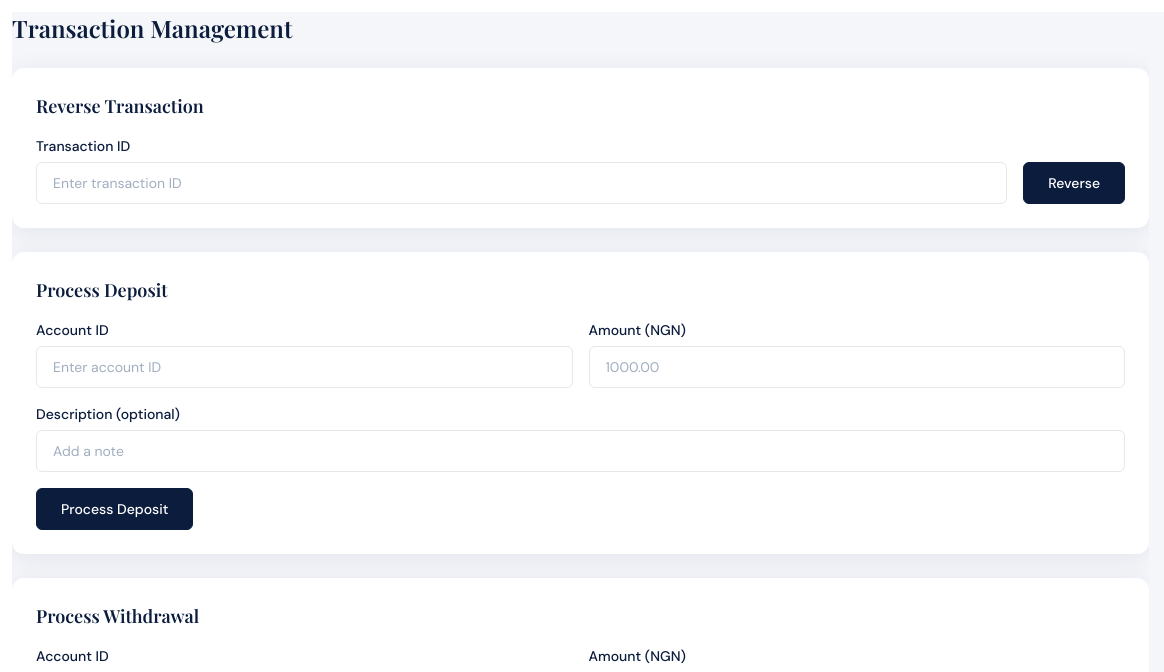
it: TransactionManagementPage › should show validation error when transaction ID is empty on reverse
The width and height of the screenshot is (1164, 672).
Click the button "Reverse". click: (1074,183)
box: [1023,162,1125,204]
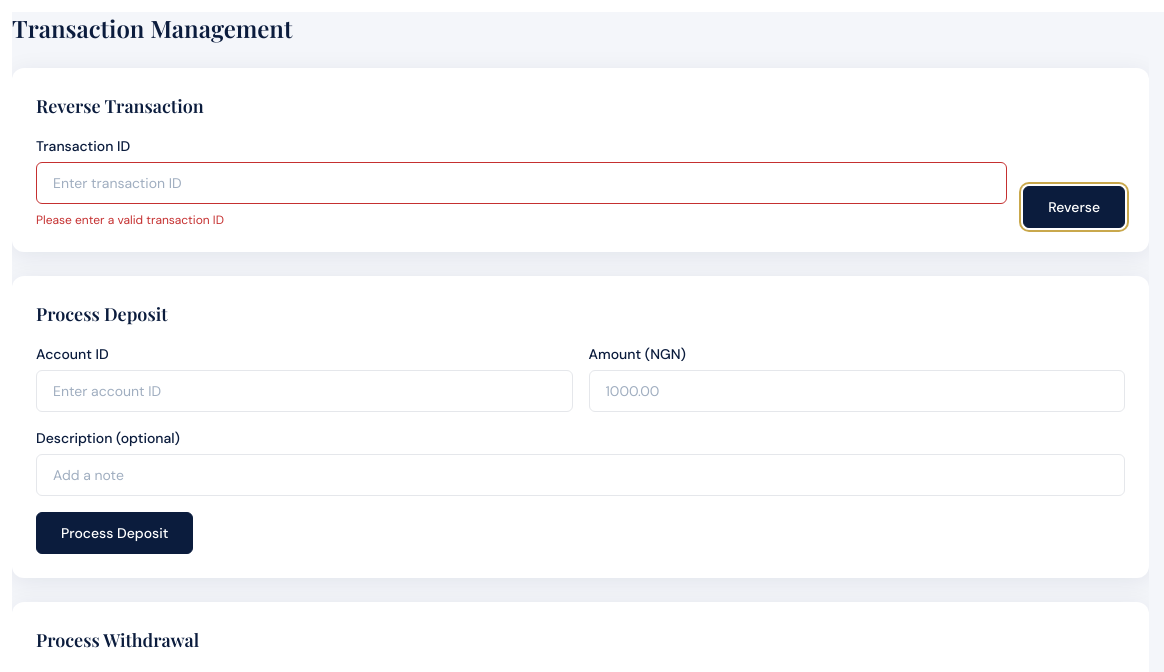
Check: the text "Please enter a valid transaction ID" is shown, box [36,212,224,228]
